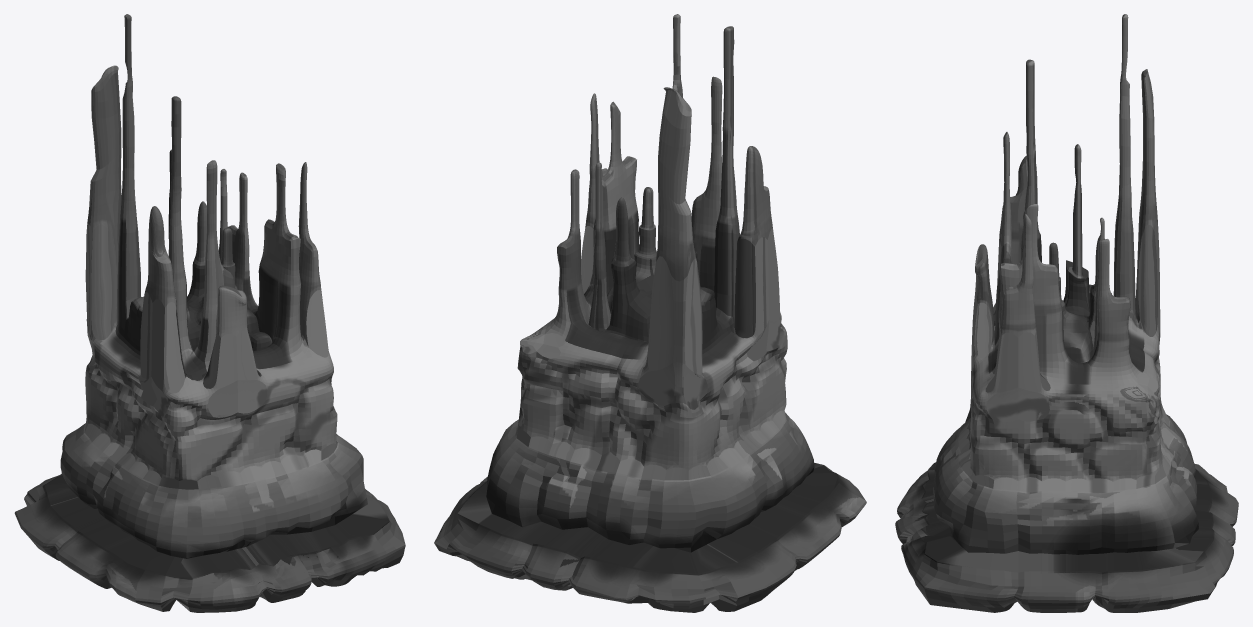
File: drynrock.fbx
The picture shows the model from 3 angles, left to right: view 1: azimuth 30°, elevation 25°; view 2: azimuth 150°, elevation 25°; view 3: azimuth 270°, elevation 25°; orthographic projection. The views are drawn at different scales.
Parts seen in each view (by area): view 1: Cube; view 2: Cube; view 3: Cube.
Part boxes in pixels (x1,y1,x2,y2): Cube: (14, 14, 405, 612); Cube: (434, 14, 866, 612); Cube: (895, 14, 1238, 612).
Size of the model in its own units: 357 by 592 by 362.
1 material, 1 textured.
